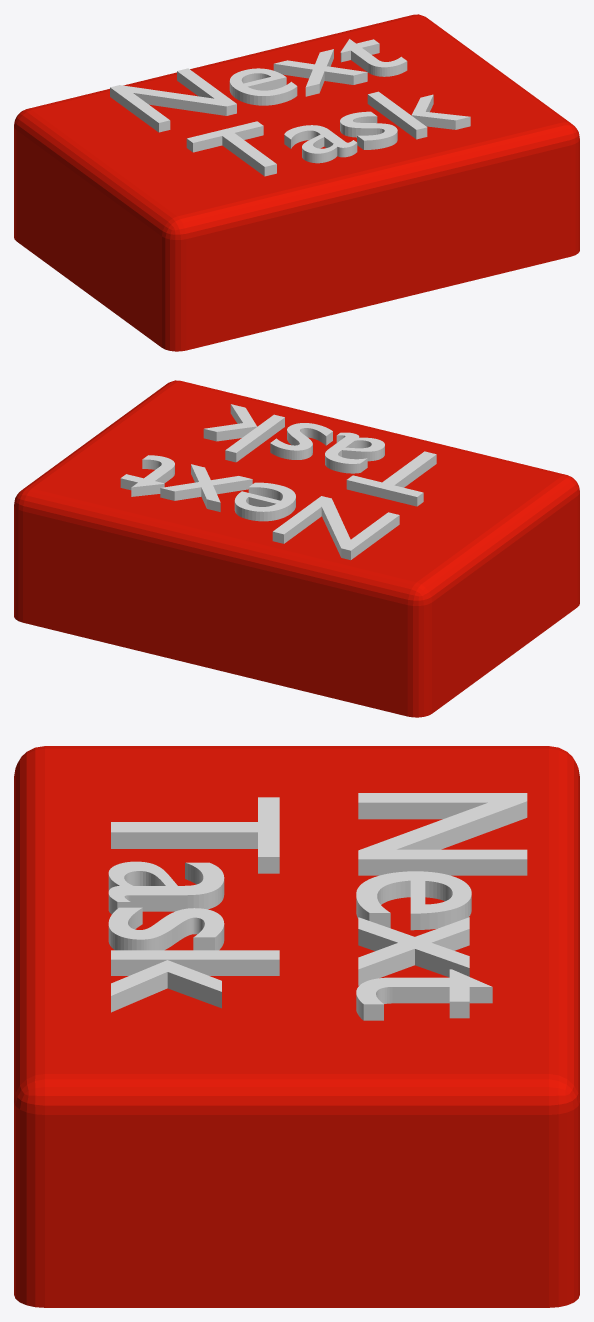
Rendered from nextTask.fbx.
3 views of the same model, one above another, from view 1: azimuth 30°, elevation 25°; view 2: azimuth 150°, elevation 25°; view 3: azimuth 270°, elevation 25° (orthographic). The views are drawn at different scales.
Visible parts, largest first — view 1: Cube.004; view 2: Cube.004; view 3: Cube.004.
Part boxes in pixels (left/top/right/bottom): Cube.004: left=14, top=14, right=579, bottom=351; Cube.004: left=14, top=380, right=579, bottom=717; Cube.004: left=14, top=746, right=579, bottom=1307.
Bounding box in the file's own units: 93.51 × 29.47 × 63.67.
